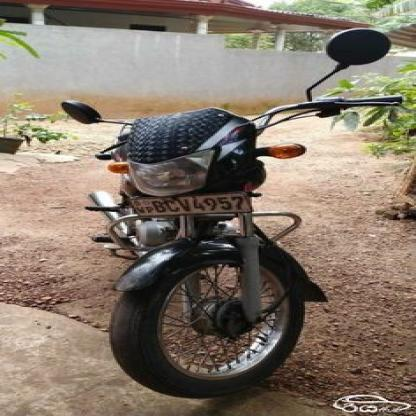bike front: (38, 28, 416, 402)
number plate: (119, 196, 263, 216)
